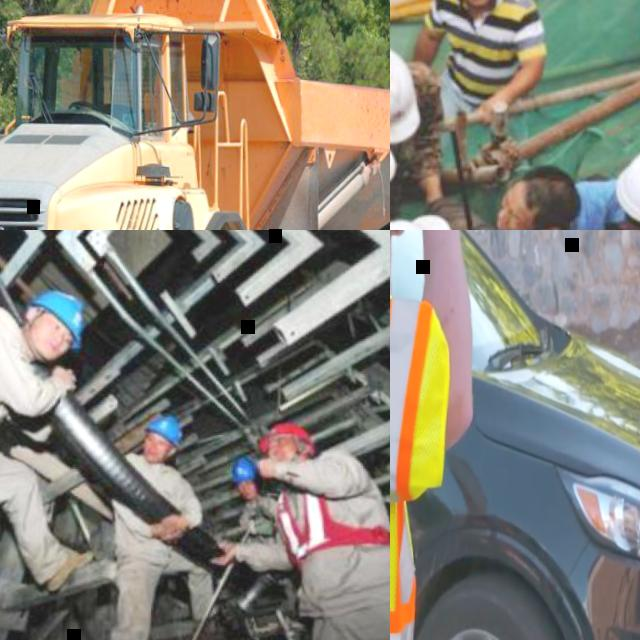Hardhat: (603, 118, 640, 230), (390, 40, 422, 150), (28, 290, 86, 342), (258, 422, 315, 453), (139, 415, 183, 449), (230, 460, 255, 485)
NO-Hardhat: (520, 163, 582, 224)
NO-Mask: (28, 334, 63, 357), (272, 447, 304, 465), (491, 214, 516, 230), (143, 448, 160, 462), (243, 485, 258, 500)
NO-Safety Vest: (442, 4, 526, 102), (114, 459, 178, 538), (390, 93, 432, 187), (240, 501, 283, 537), (595, 201, 640, 230)
Person: (390, 230, 487, 640), (202, 415, 390, 601), (0, 280, 105, 599), (102, 413, 225, 640), (409, 0, 548, 125), (435, 148, 635, 230), (390, 37, 446, 223), (578, 140, 640, 230), (232, 458, 292, 543)
Safety Vest: (390, 230, 449, 640), (273, 484, 388, 563)
vehicle: (390, 230, 640, 640), (0, 0, 390, 230)
